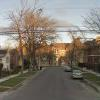Tree: (7, 8, 60, 70)
